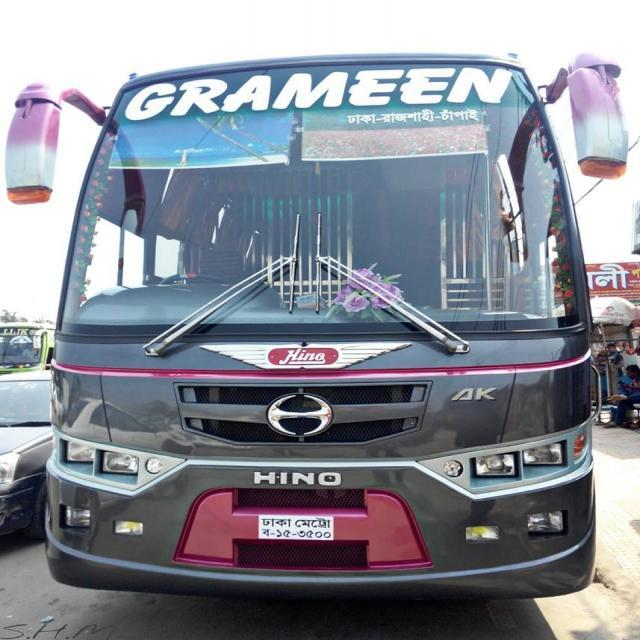bus: (4, 49, 630, 603)
